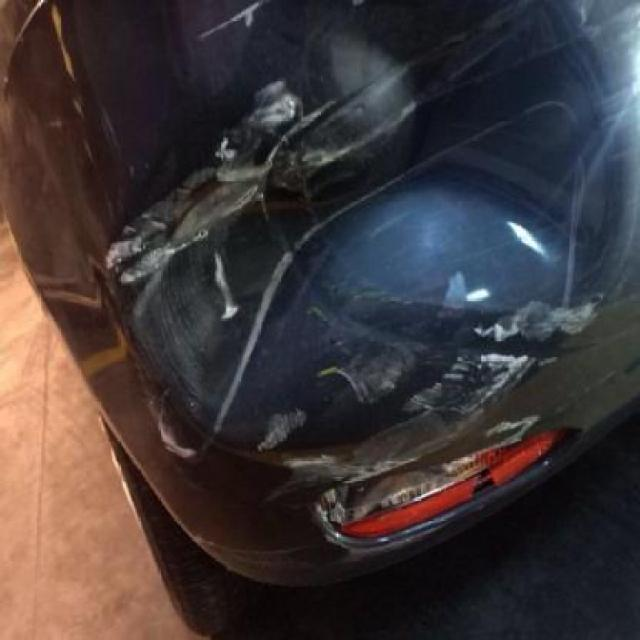car damage: (50, 0, 412, 439), (327, 218, 579, 459), (114, 169, 240, 279), (325, 450, 425, 516)
